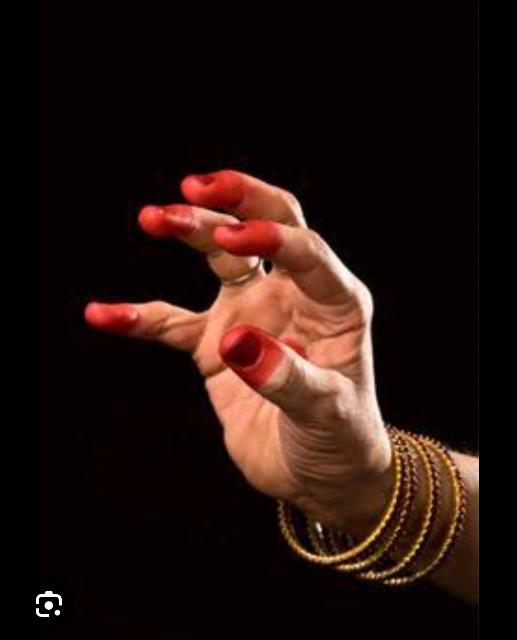padamkosh: (84, 170, 393, 504)
